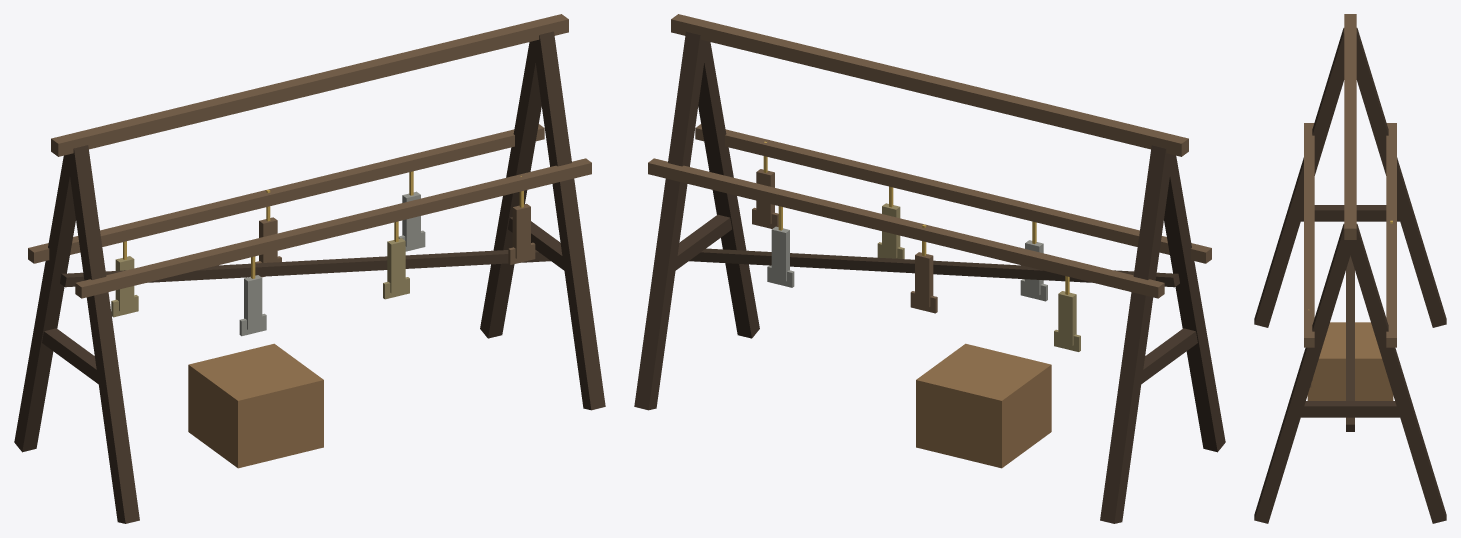
The model's file is fishing_rack.glb.
The picture shows the model from 3 angles, left to right: view 1: azimuth 30°, elevation 25°; view 2: azimuth 150°, elevation 25°; view 3: azimuth 270°, elevation 25°; orthographic projection. The views are drawn at different scales.
Parts seen in each view (by area): view 1: fishing_rack; view 2: fishing_rack; view 3: fishing_rack.
Part boxes in pixels (x1,y1,x2,y2): fishing_rack: (14,14,605,523); fishing_rack: (634,14,1225,523); fishing_rack: (1254,14,1446,523).
Size of what is drawn, in the model's own units: 2.85 by 1.87 by 1.08.
Materials: 2 (2 with a texture image).
